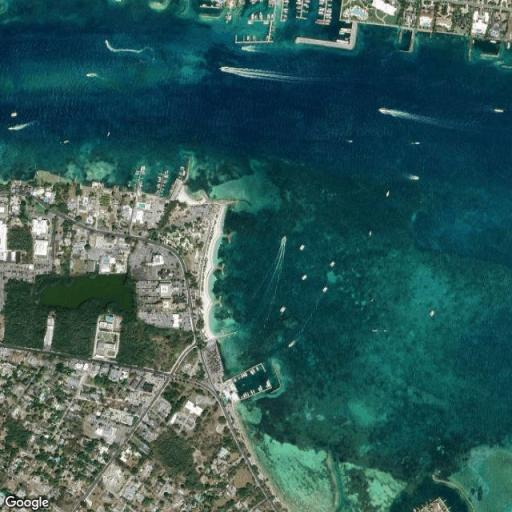ship: (220, 67, 314, 82), (231, 364, 271, 399), (379, 108, 413, 118), (157, 171, 169, 196), (8, 121, 35, 131), (179, 166, 187, 181), (241, 45, 259, 51), (157, 173, 163, 187), (378, 108, 390, 114), (225, 13, 231, 23), (86, 72, 98, 77), (341, 28, 351, 34), (408, 175, 419, 180), (288, 340, 295, 347), (367, 229, 374, 236), (62, 139, 70, 145), (281, 236, 287, 244), (164, 170, 169, 179), (280, 307, 286, 314), (429, 310, 435, 317), (494, 108, 503, 112), (299, 244, 305, 250), (337, 40, 349, 43), (259, 11, 263, 20), (411, 141, 419, 145), (251, 11, 255, 19), (330, 261, 335, 267), (11, 112, 17, 117), (490, 40, 497, 44), (302, 275, 307, 280), (127, 182, 131, 188), (325, 16, 332, 19), (323, 287, 327, 292), (107, 131, 110, 137), (386, 191, 389, 197), (346, 140, 352, 143), (412, 508, 417, 511), (319, 11, 324, 14), (296, 2, 302, 4), (283, 11, 289, 13), (247, 35, 249, 40)
